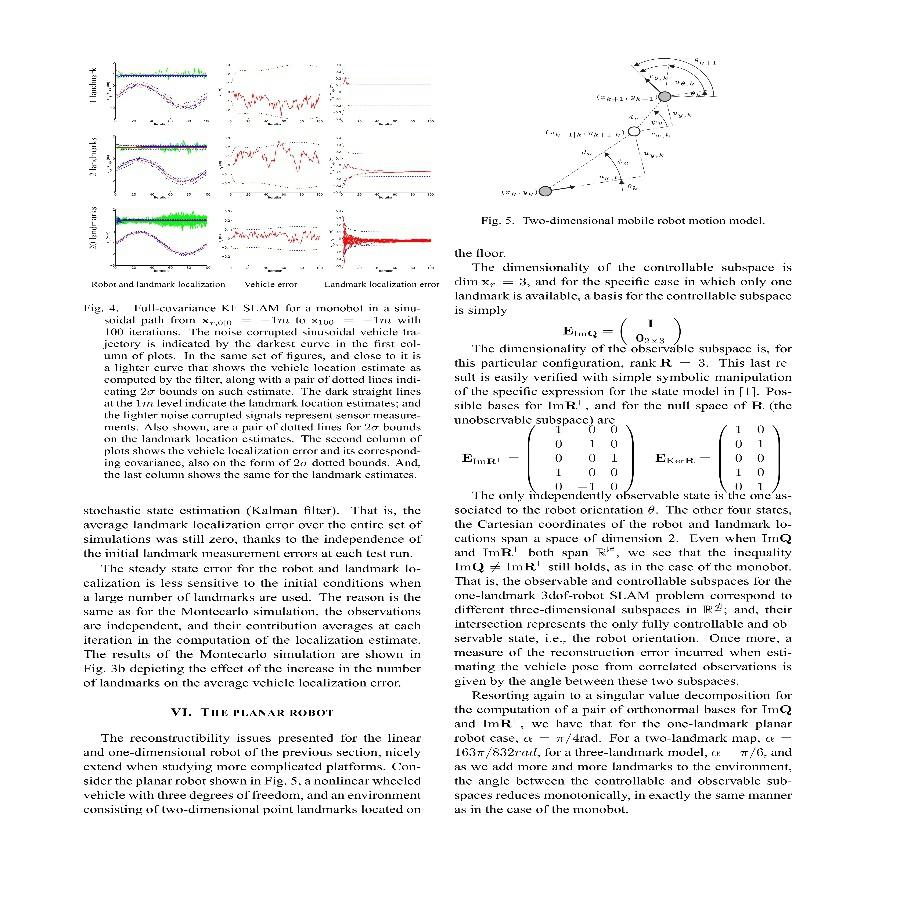eq: (463, 424, 787, 493), (557, 314, 693, 344)
